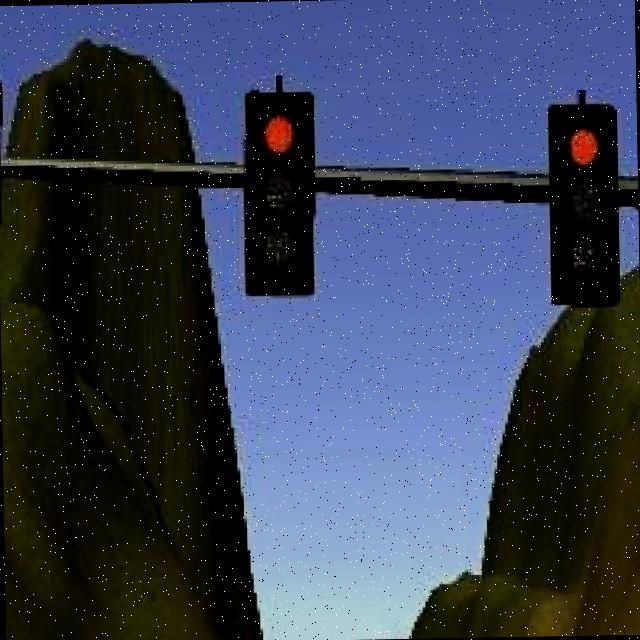Czerwone swiatlo: (547, 104, 623, 314), (245, 86, 318, 293)
